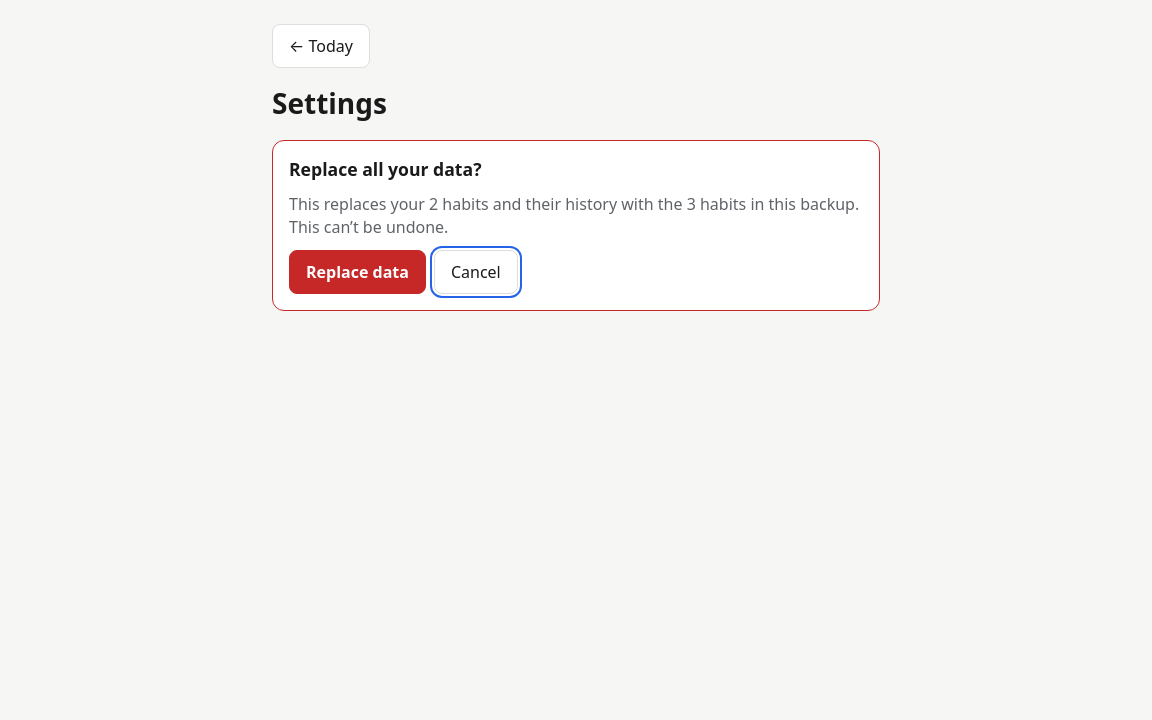
Test case: Settings › Import › Cancel keeps the current data
Earlier steps of the test are not shown.
Click the button "Cancel": (476, 272) [434,250,518,294]
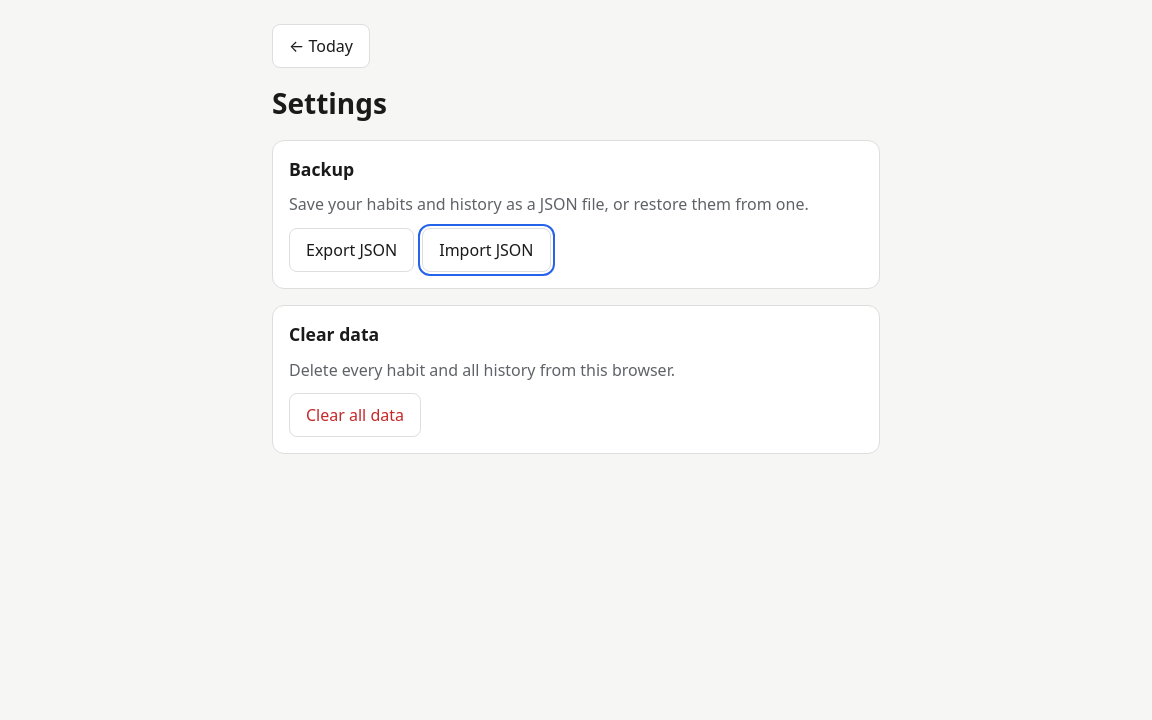
Result: the dialog is gone
